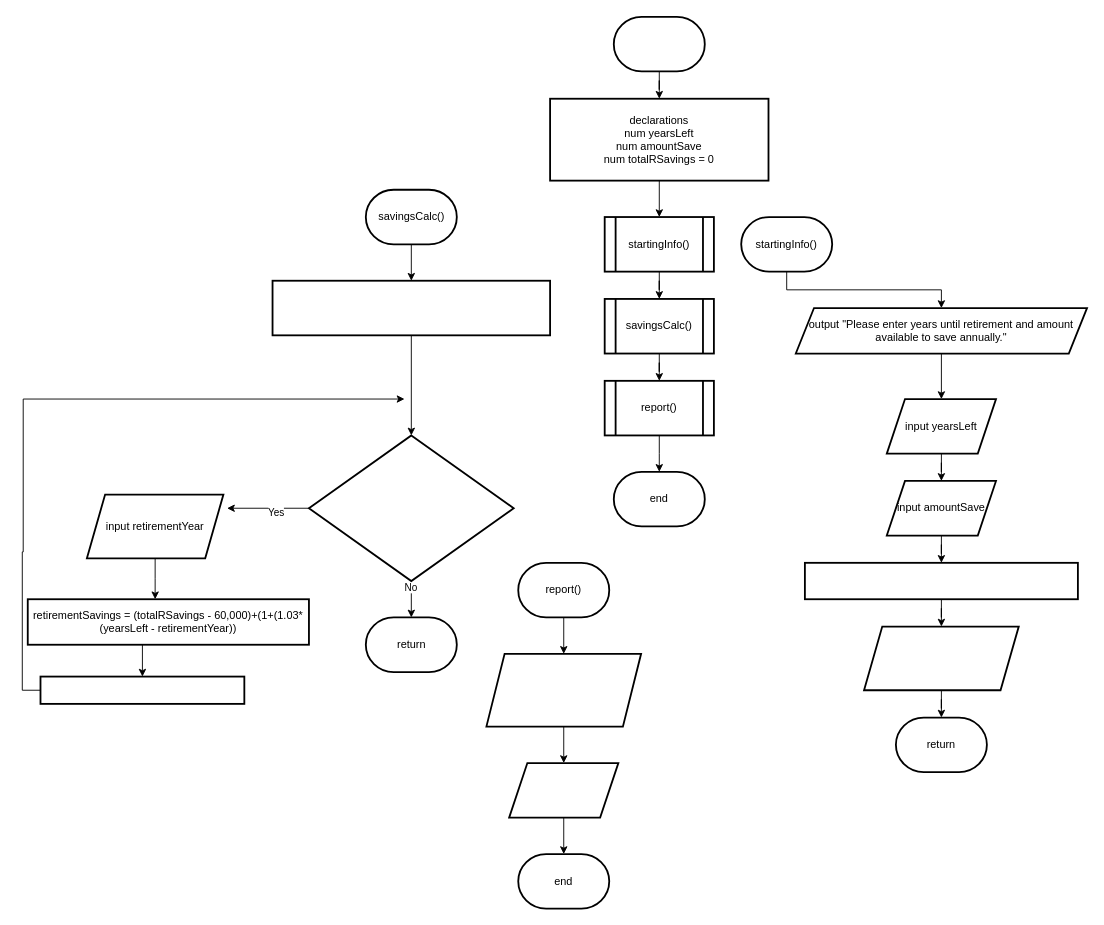
The diagram is 1104 pixels wide and 925 high, and some of its shapes have lost their labels. Each missing label, with the box of its shape:
Declarations num retirementYear = 0 num retirementSavings = totalRsavings: (271, 279, 551, 336)
output retirementYear: (485, 652, 642, 727)
output totalRsavings: (863, 625, 1019, 691)
output: retirementSavings: (508, 762, 619, 818)
retirementYear < 30 or retirementSavings <= 0: (308, 434, 514, 581)
start: (612, 15, 705, 72)
totalRsavings = amountSave(1+(1.03*yearsLeft)): (804, 561, 1078, 600)
while [retirementYear] <>30 retirementYear = retirementYear + 1: (39, 675, 245, 704)
